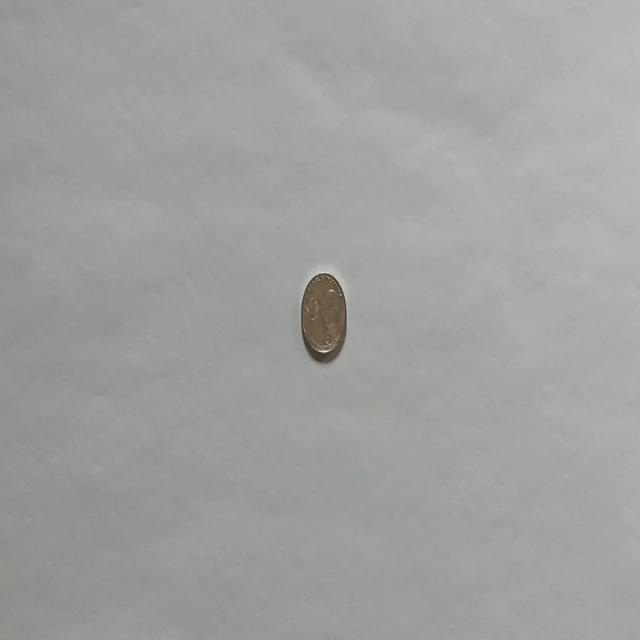lima ratus rupiah: (300, 270, 347, 360)
